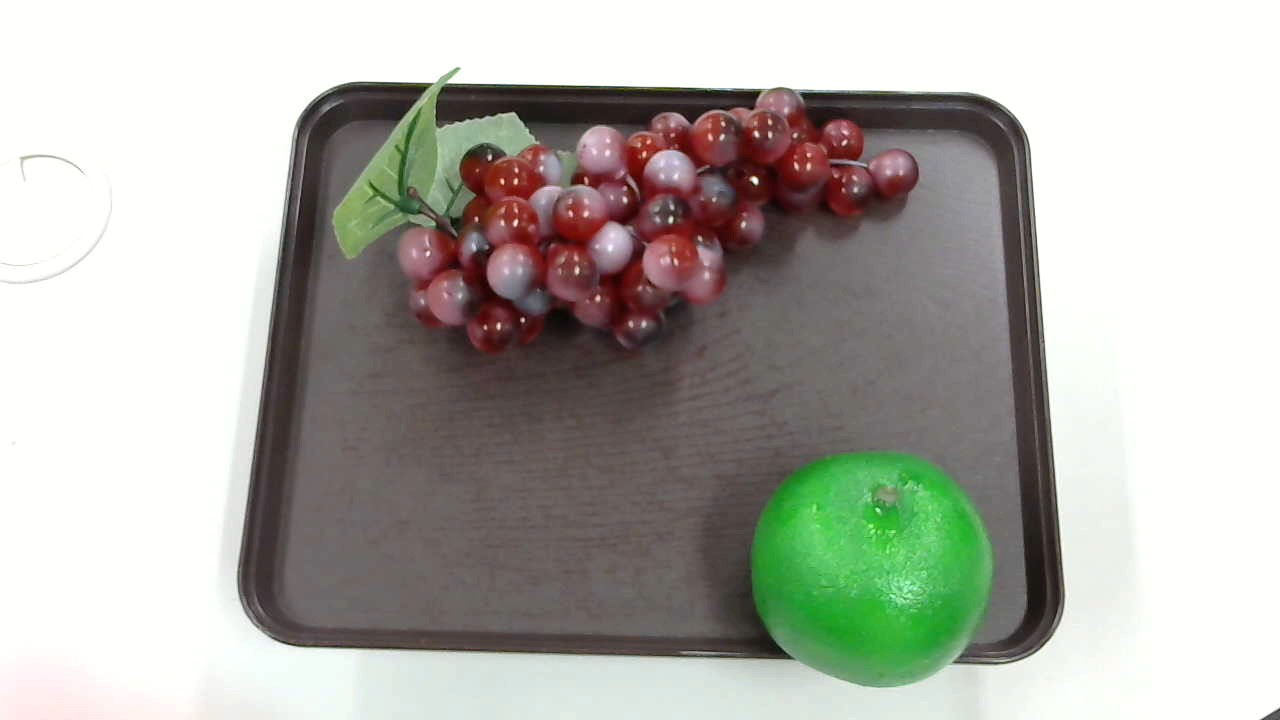grape: (330, 64, 917, 356)
green orange: (751, 449, 993, 686)
